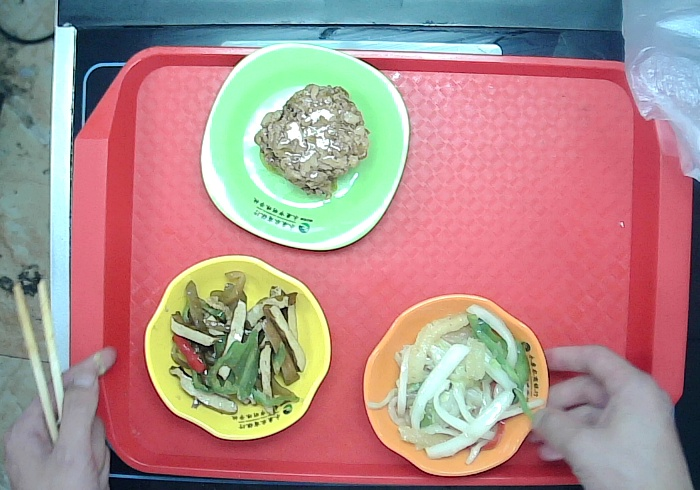YKMZ-Huang_Se_Ao_Bian_Wan: (140, 248, 337, 453)
YKMZ-Ju_Se_Ao_Bian_Wan: (351, 287, 555, 483)
YKMZ-Lv_Se_Fang_Die: (194, 32, 415, 254)
